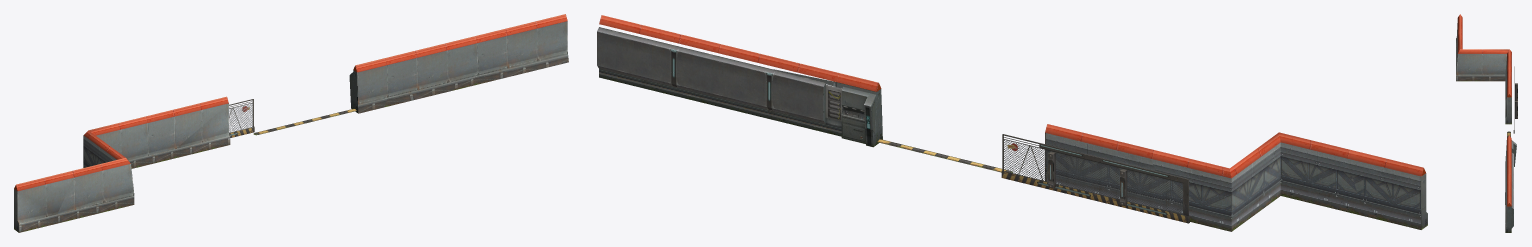
File: Building_Mainexit03_lod2.glb
3 renders of one model, left to right at view 1: azimuth 30°, elevation 25°; view 2: azimuth 150°, elevation 25°; view 3: azimuth 270°, elevation 25°, orthographic. The views are drawn at different scales.
Parts seen in each view (by area): view 1: xiutz_mainexit_03_lod2_0; view 2: xiutz_mainexit_03_lod2_0; view 3: xiutz_mainexit_03_lod2_0.
Boxes of the visible parts, box(x1,y1,x2,y2) form: xiutz_mainexit_03_lod2_0: box(14, 14, 568, 232); xiutz_mainexit_03_lod2_0: box(597, 15, 1427, 231); xiutz_mainexit_03_lod2_0: box(1456, 14, 1517, 232).
Bounding box in the file's own units: 74.43 × 5.59 × 10.3.
2 materials, 2 textured.
